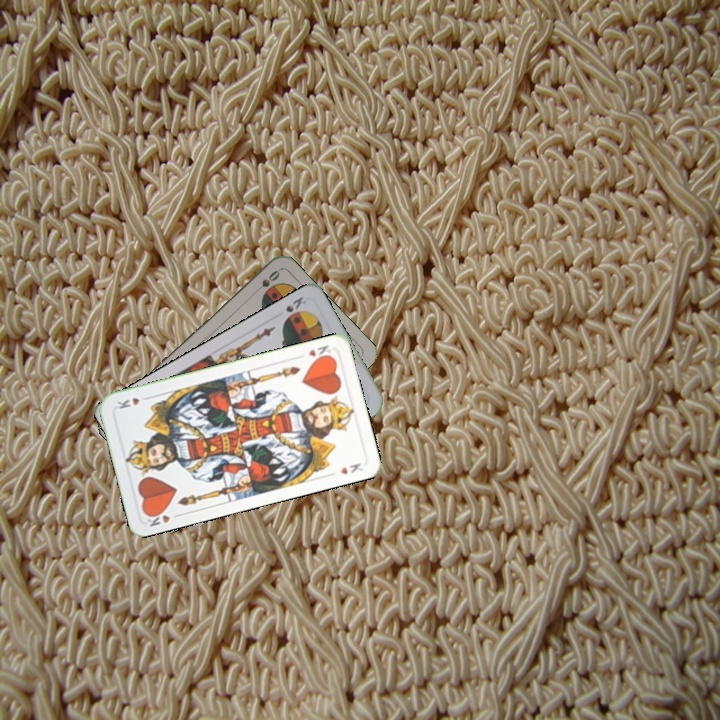HK: (142, 506, 183, 529), (304, 341, 334, 363)
SK: (280, 292, 309, 323)
SO: (249, 266, 283, 298)
